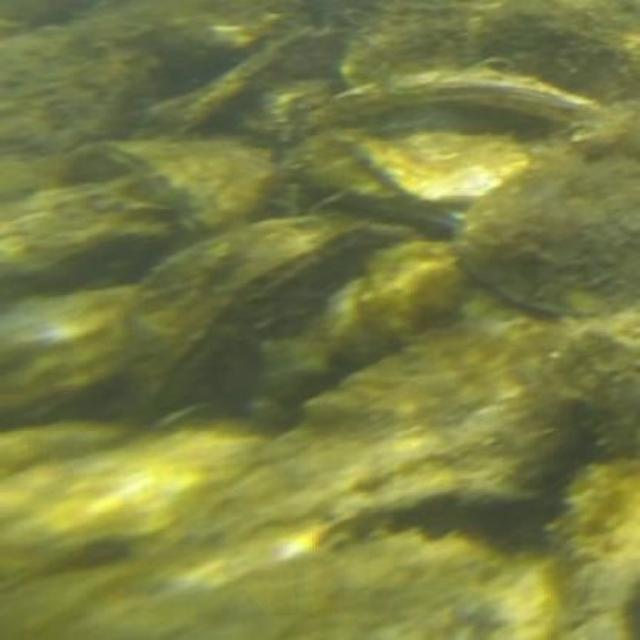Oyster-Closed: (34, 537, 558, 640), (108, 214, 374, 415), (449, 98, 640, 321), (343, 0, 637, 96), (66, 133, 281, 232), (332, 70, 599, 130)
